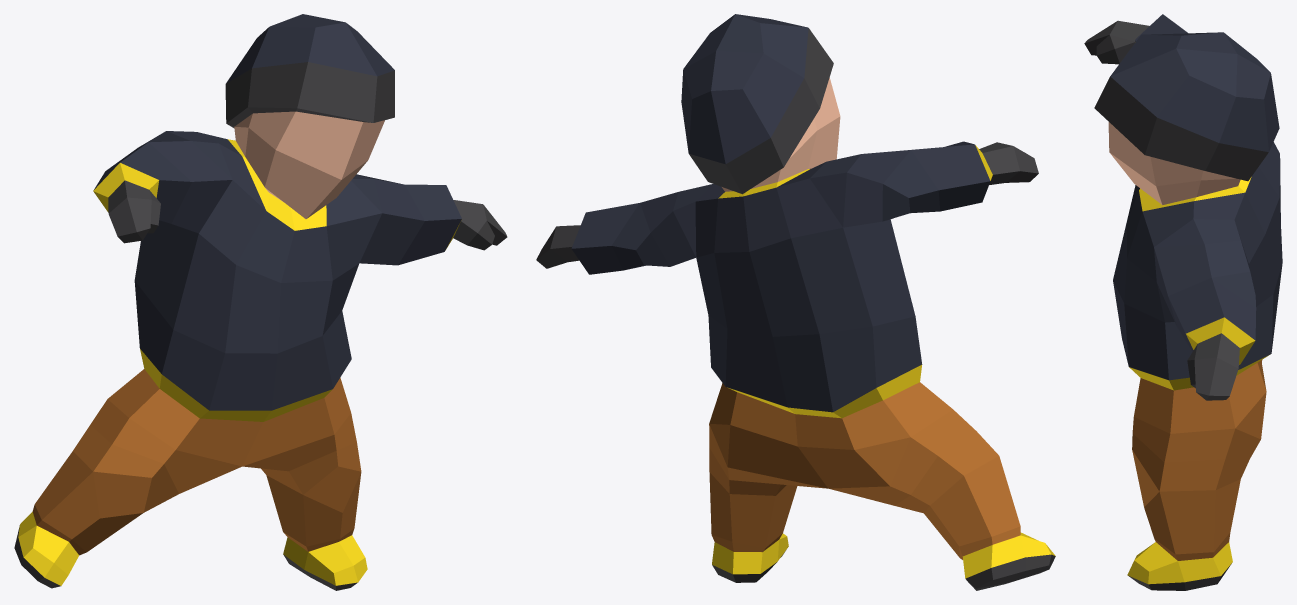
File: AutumnBaby.005.glb
3 views of the same model, side by side, from view 1: azimuth 30°, elevation 25°; view 2: azimuth 150°, elevation 25°; view 3: azimuth 270°, elevation 25° (orthographic).
Parts seen in each view (by area): view 1: AutumnBaby.005; view 2: AutumnBaby.005; view 3: AutumnBaby.005.
Part boxes in pixels (x1=…): AutumnBaby.005: x1=14, y1=14, x2=507, y2=590; AutumnBaby.005: x1=536, y1=14, x2=1055, y2=590; AutumnBaby.005: x1=1084, y1=14, x2=1282, y2=590.
Size of the model in its own units: 0.5591 by 0.5923 by 0.1962.
1 material, 1 textured.
